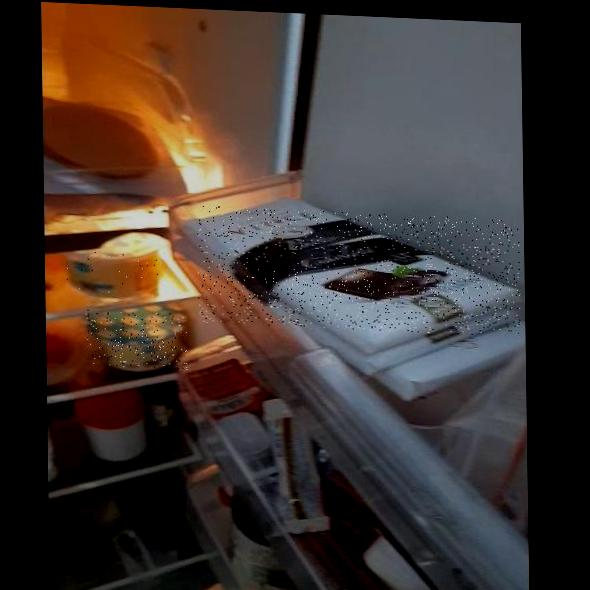chocolate: (197, 206, 521, 337)
yoghurt: (85, 310, 187, 370), (67, 251, 160, 297)
